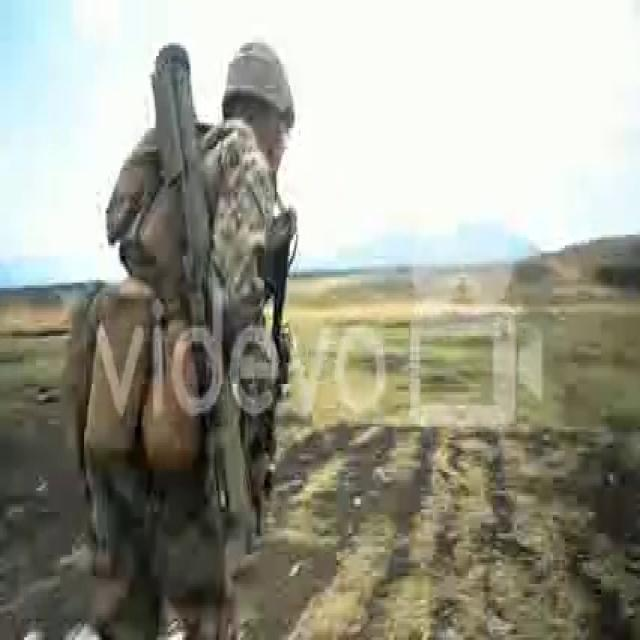bazooka: (149, 35, 263, 570)
